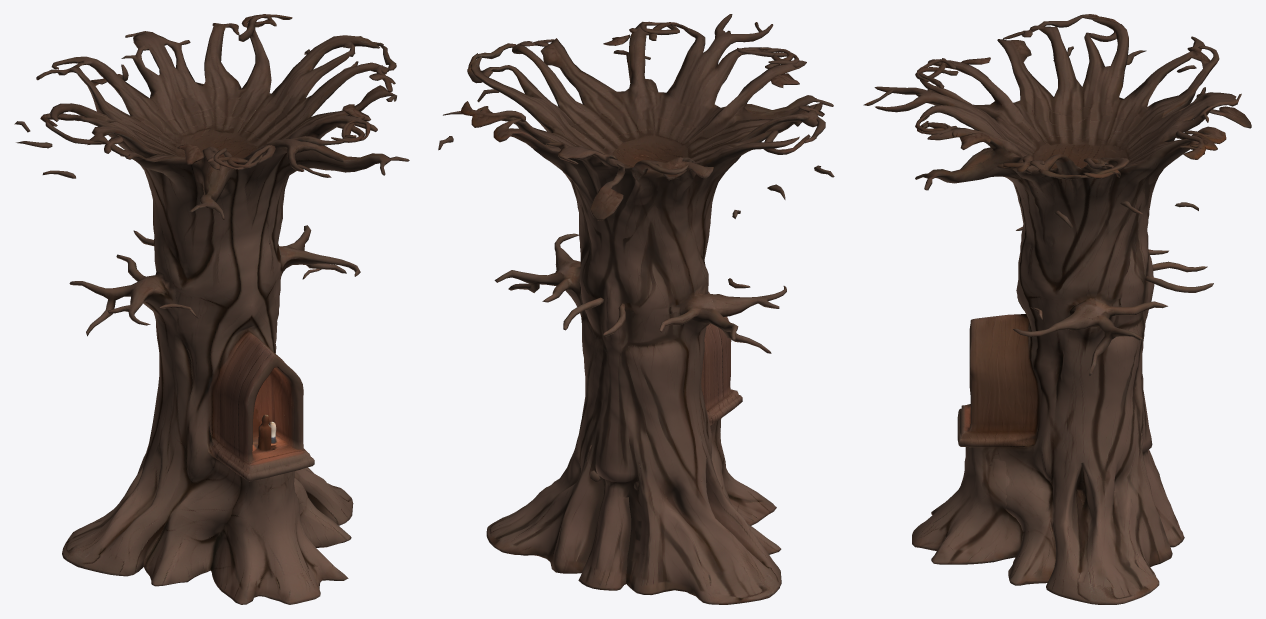
File: forest_shrine_tree.glb
3 renders of one model, left to right at view 1: azimuth 30°, elevation 25°; view 2: azimuth 150°, elevation 25°; view 3: azimuth 270°, elevation 25°, orthographic. The views are drawn at different scales.
Bounding box in the file's own units: 1.55 × 1.91 × 1.5.
Materials: 1 (1 with a texture image).
